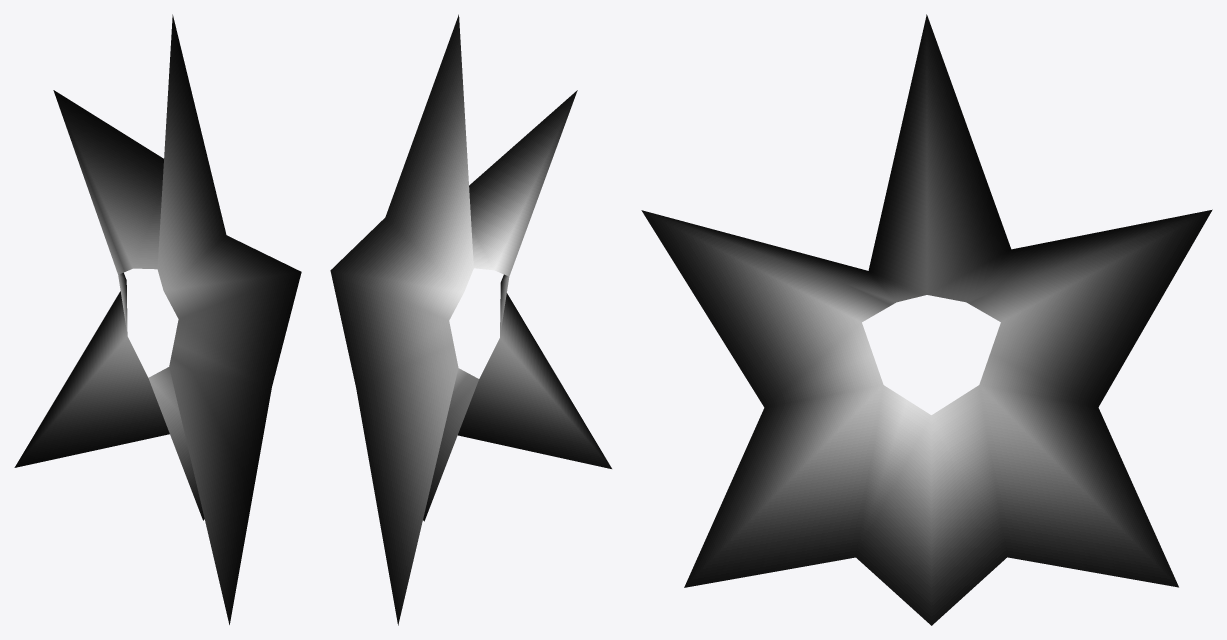
File: xiesetianshizhidun003.FBX
3 views of the same model, side by side, from view 1: azimuth 30°, elevation 25°; view 2: azimuth 150°, elevation 25°; view 3: azimuth 270°, elevation 25° (orthographic). The views are drawn at different scales.
Parts seen in each view (by area): view 1: xiesetianshizhidun003; view 2: xiesetianshizhidun003; view 3: xiesetianshizhidun003.
Part boxes in pixels (x1,y1,x2,y2): xiesetianshizhidun003: (14, 14, 301, 624); xiesetianshizhidun003: (330, 14, 611, 625); xiesetianshizhidun003: (641, 14, 1212, 625).
Size of the model in its own units: 26.12 by 150 by 129.
